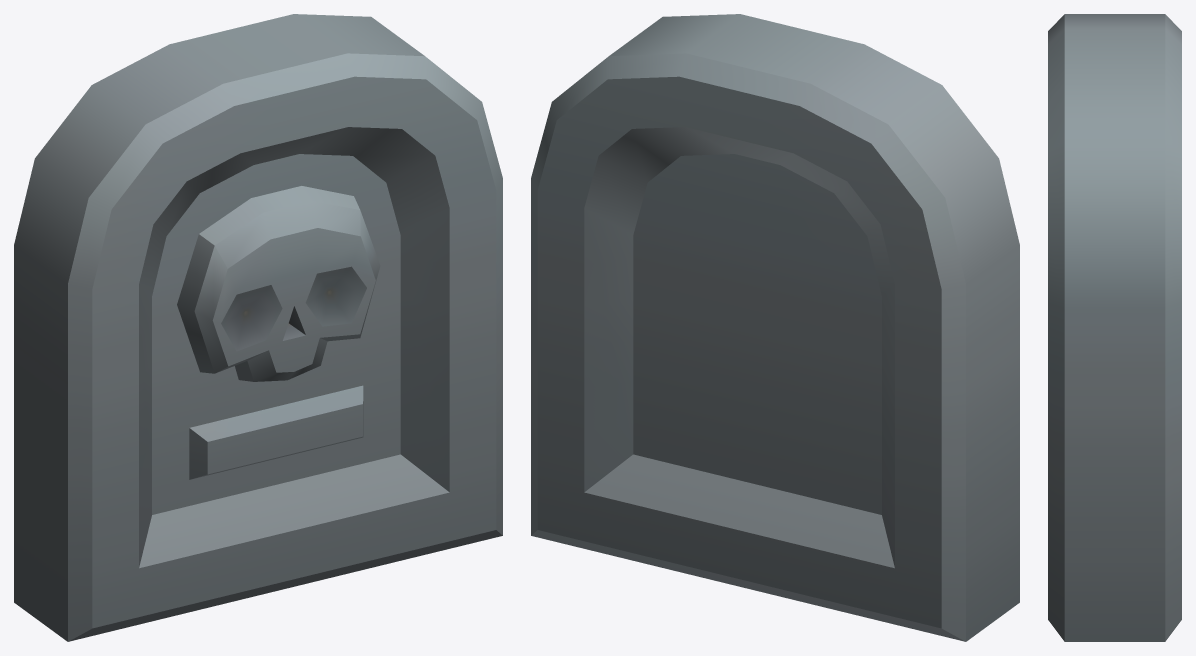
The model's file is gravestone.glb.
The picture shows the model from 3 angles, left to right: view 1: azimuth 30°, elevation 25°; view 2: azimuth 150°, elevation 25°; view 3: azimuth 270°, elevation 25°; orthographic projection. The views are drawn at different scales.
Parts seen in each view (by area): view 1: gravestone; view 2: gravestone; view 3: gravestone.
Boxes of the visible parts, <box> form: gravestone: <box>14,14,502,641</box>; gravestone: <box>531,14,1019,641</box>; gravestone: <box>1048,14,1181,641</box>.
Bounding box in the file's own units: 1.4 × 1.6 × 0.4001.
Materials: 1 (1 with a texture image).
